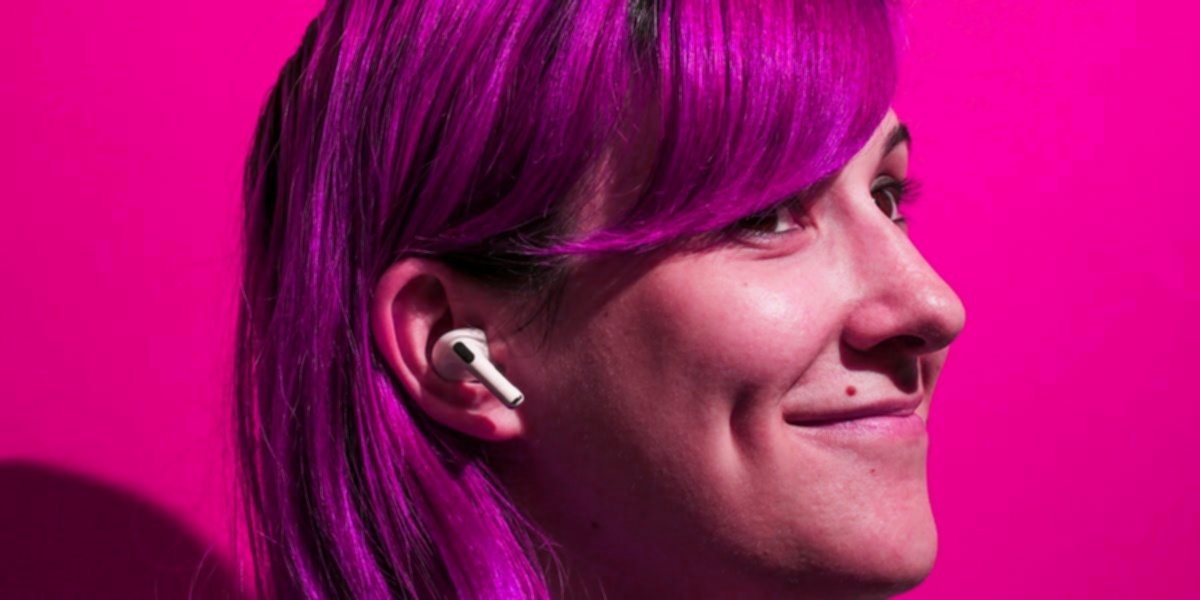earphone: (370, 255, 530, 442)
